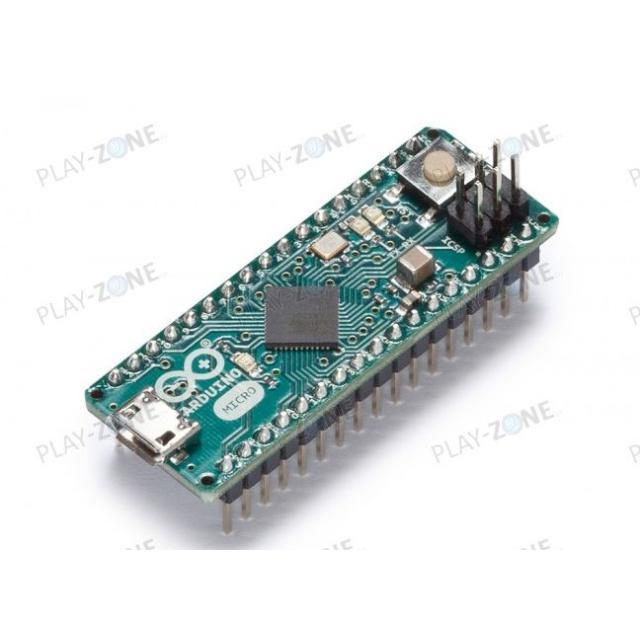Arduino-Micro: (86, 130, 558, 504)
